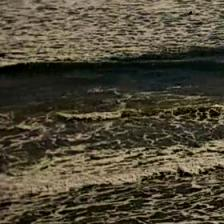surfer: (188, 10, 194, 16)
